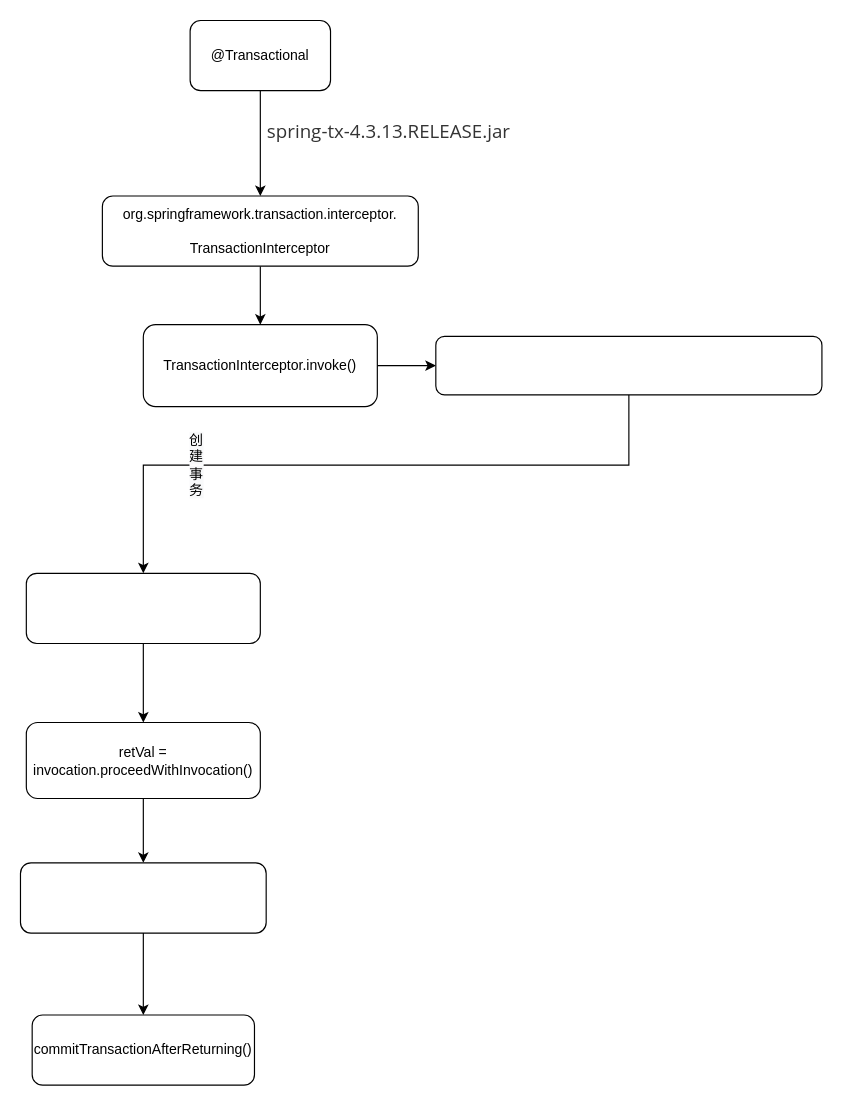
This 842x1106 diagram has some shape labels left out. Here are the shapes that lost their labels. From the top down, the centre of each, then its label:
At [628,365]: "TransactionAspectSupport.invokeWithinTransaction()".
At [142,608]: "createTransactionIfNecessary()".
At [142,897]: "completeTransactionAfterThrowing()".
